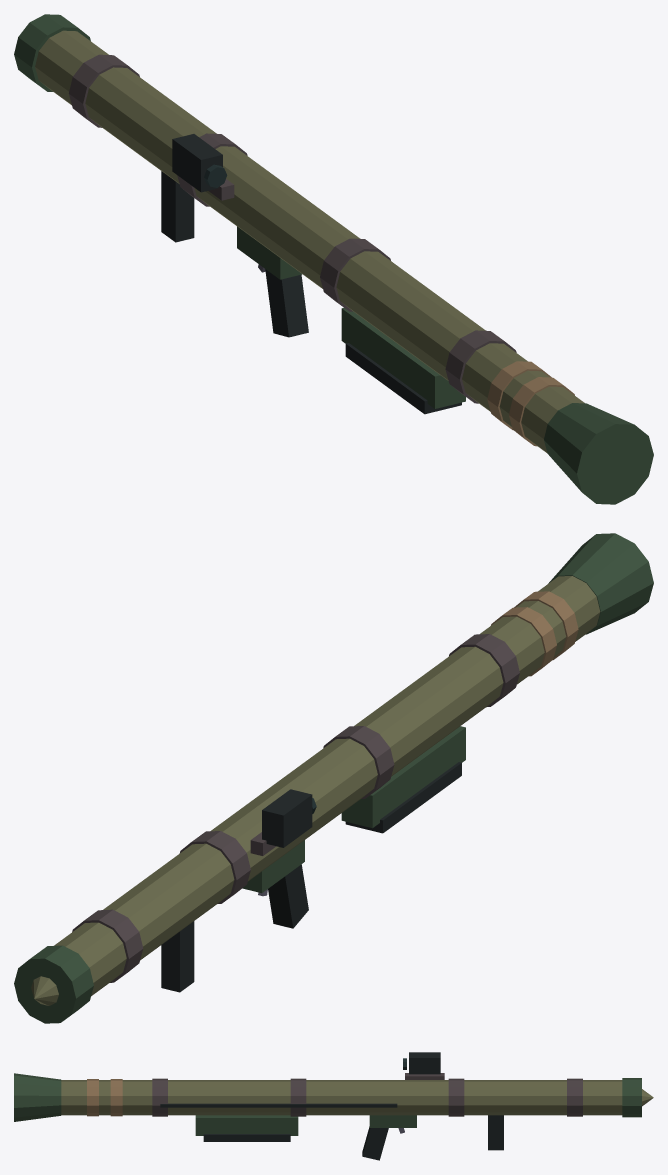
The model's file is bazooka.glb.
3 renders of one model, top to bottom at view 1: azimuth 30°, elevation 25°; view 2: azimuth 150°, elevation 25°; view 3: azimuth 270°, elevation 25°, orthographic. The views are drawn at different scales.
Parts seen in each view (by area): view 1: Bazooka; view 2: Bazooka; view 3: Bazooka.
Boxes of the visible parts, bbox=[...] form: Bazooka: bbox=[14, 14, 653, 504]; Bazooka: bbox=[14, 533, 653, 1023]; Bazooka: bbox=[14, 1052, 641, 1160].
Size of the model in its own units: 0.1515 by 0.2535 by 1.62.
